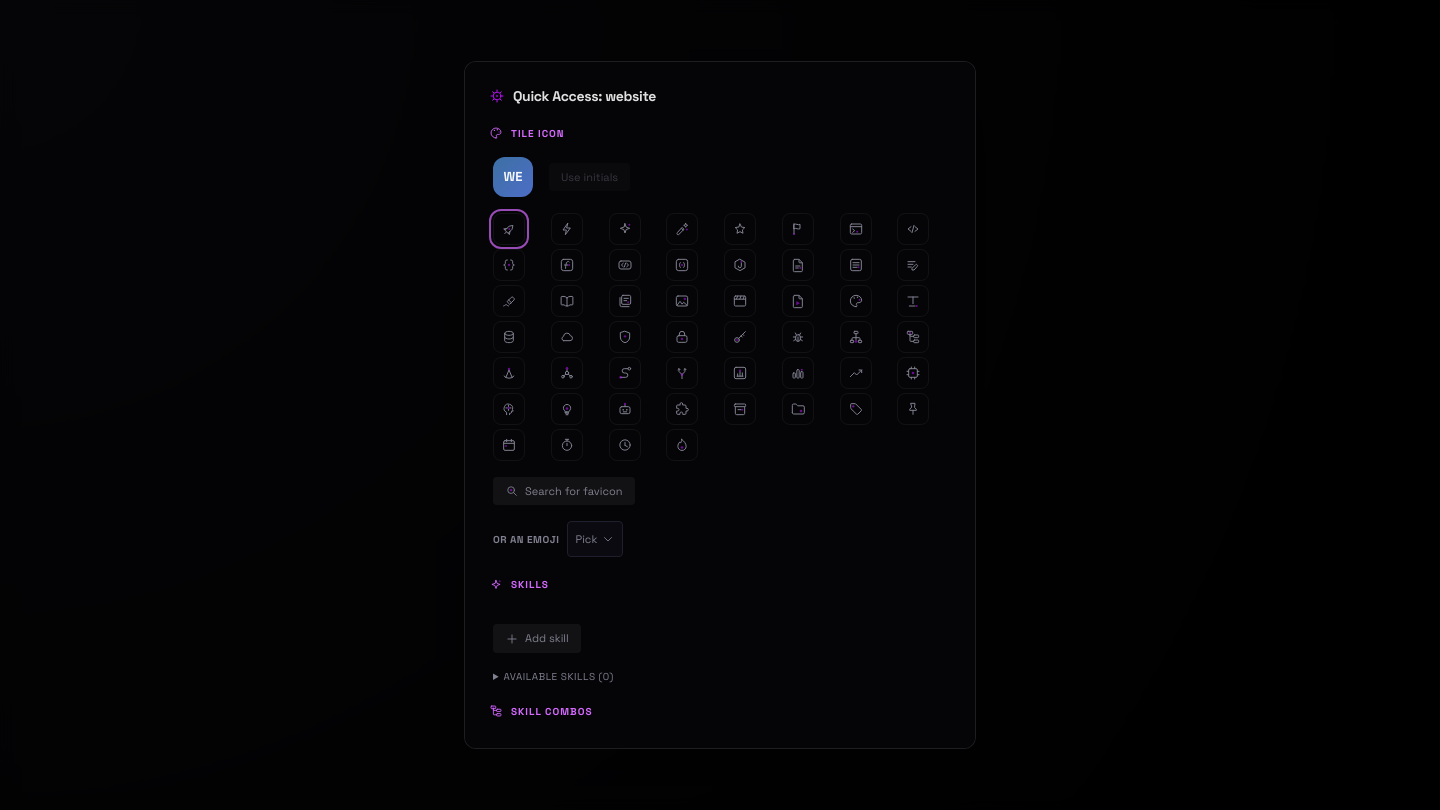
Test case: QuickAccessSettingsDialog › emoji picker › opens a browsable palette
This screenshot has width=1440, height=810.
Click the button with test id "quick-access-icon-emoji": (596, 539) [568, 521, 624, 557]
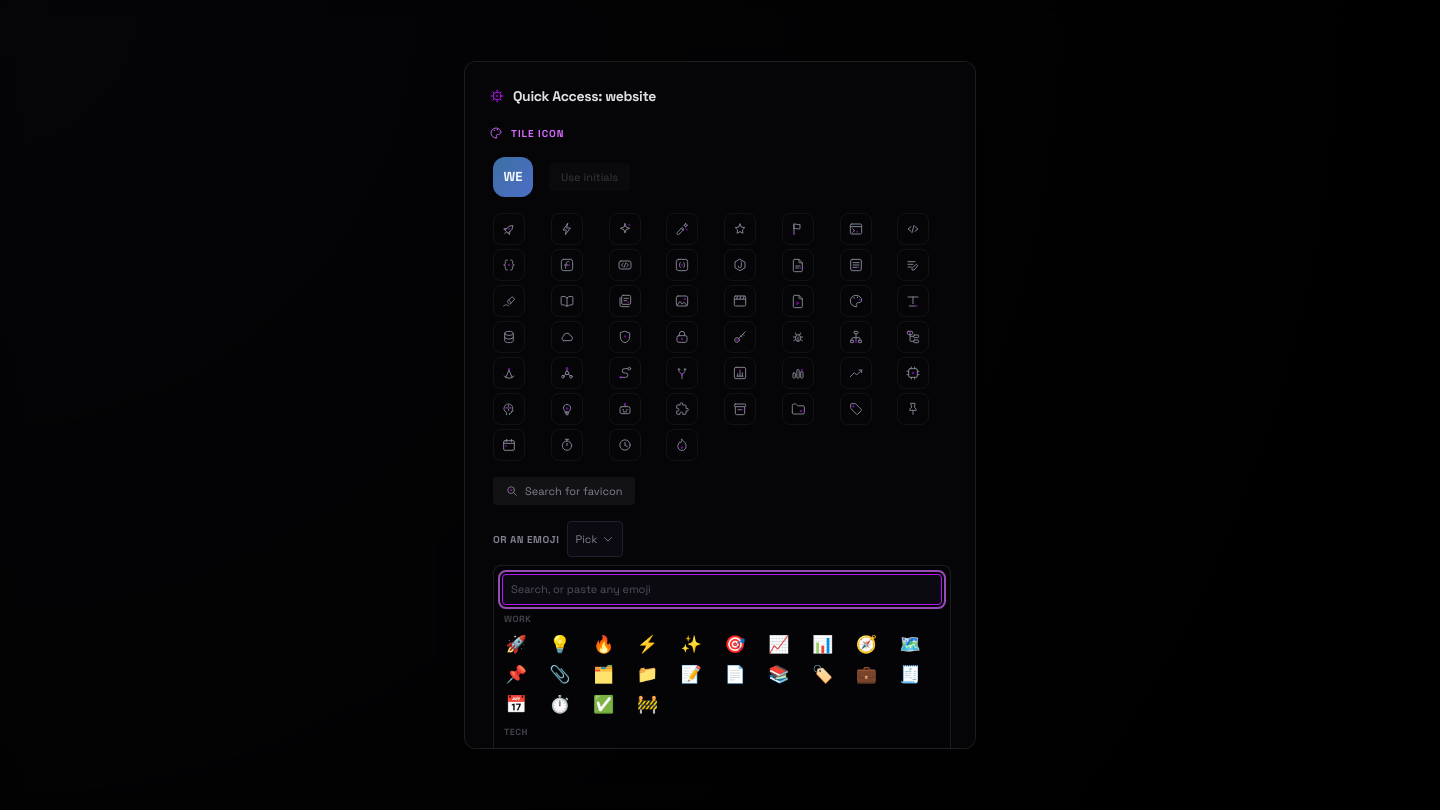
Now the element with test id "quick-access-emoji-panel" is shown, box [493, 565, 951, 749]
Now the button named "rocket" is shown, box [502, 630, 530, 658]
